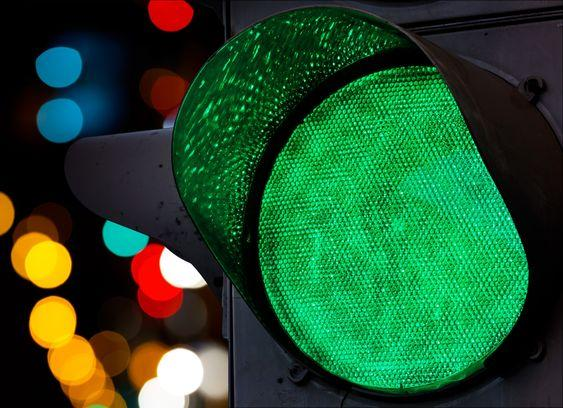Traffic light green: (175, 0, 563, 408)
